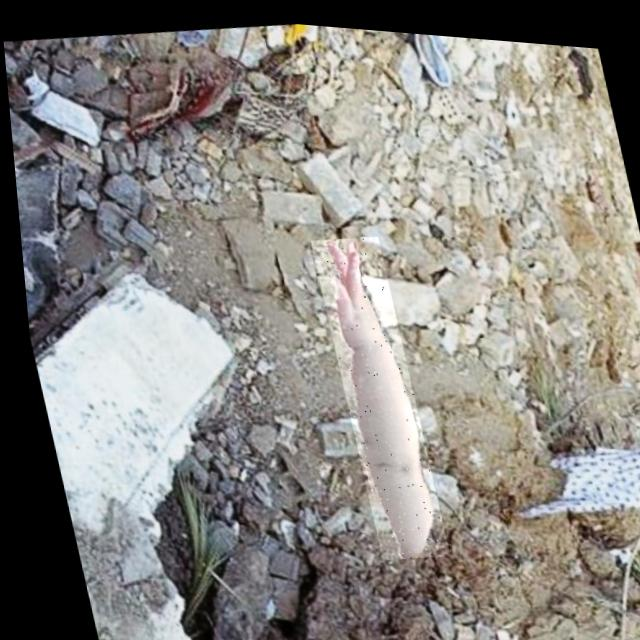Person in Rubble: (305, 227, 441, 559)
